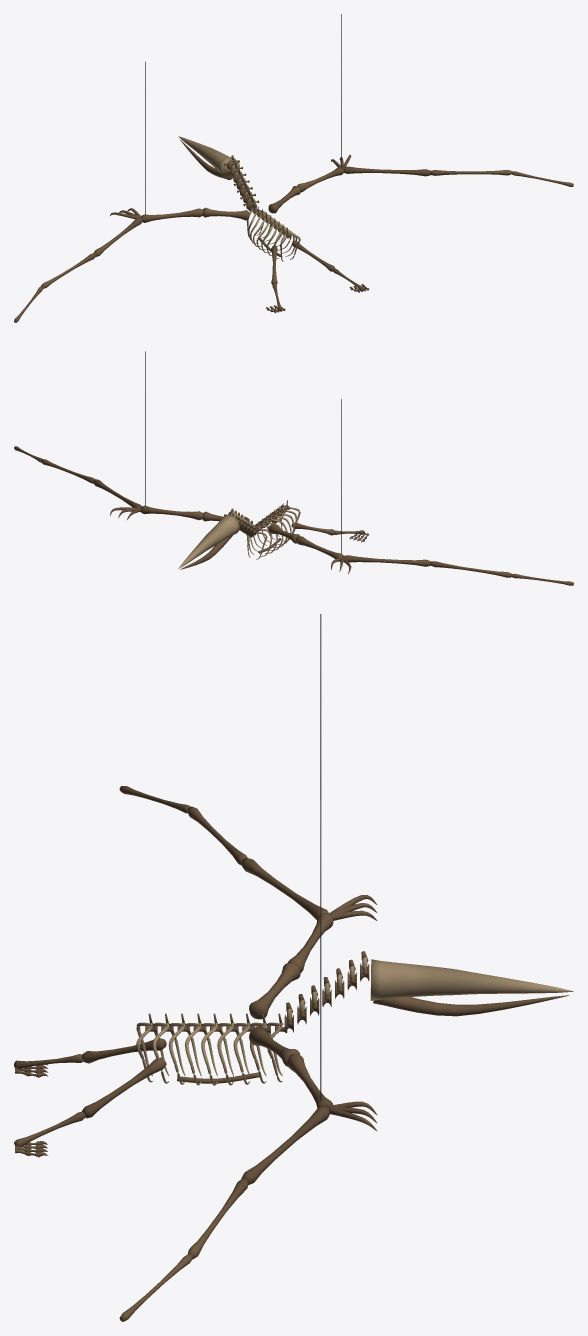
3 renders of one model, top to bottom at view 1: azimuth 30°, elevation 25°; view 2: azimuth 150°, elevation 25°; view 3: azimuth 270°, elevation 25°, orthographic. The views are drawn at different scales.
Parts seen in each view (by area): view 1: D08_SPEC_Fossil umber_export, D08_SPEC_Fossil ridge_export; view 2: D08_SPEC_Fossil umber_export, D08_SPEC_Fossil ridge_export, D08_SPEC_Mount steel_export; view 3: D08_SPEC_Fossil umber_export, D08_SPEC_Fossil ridge_export, D08_SPEC_Mount steel_export.
Boxes of the visible parts, x1,y1,x2,y2 form: D08_SPEC_Fossil umber_export: (14,140,573,322); D08_SPEC_Fossil ridge_export: (178,136,300,261); D08_SPEC_Fossil umber_export: (14,446,573,585); D08_SPEC_Fossil ridge_export: (178,505,300,568); D08_SPEC_Mount steel_export: (145,351,341,553); D08_SPEC_Fossil umber_export: (14,786,569,1321); D08_SPEC_Fossil ridge_export: (136,957,573,1085); D08_SPEC_Mount steel_export: (320,614,321,1101).
Bounding box in the file's own units: 6.02 × 2.14 × 2.68.
